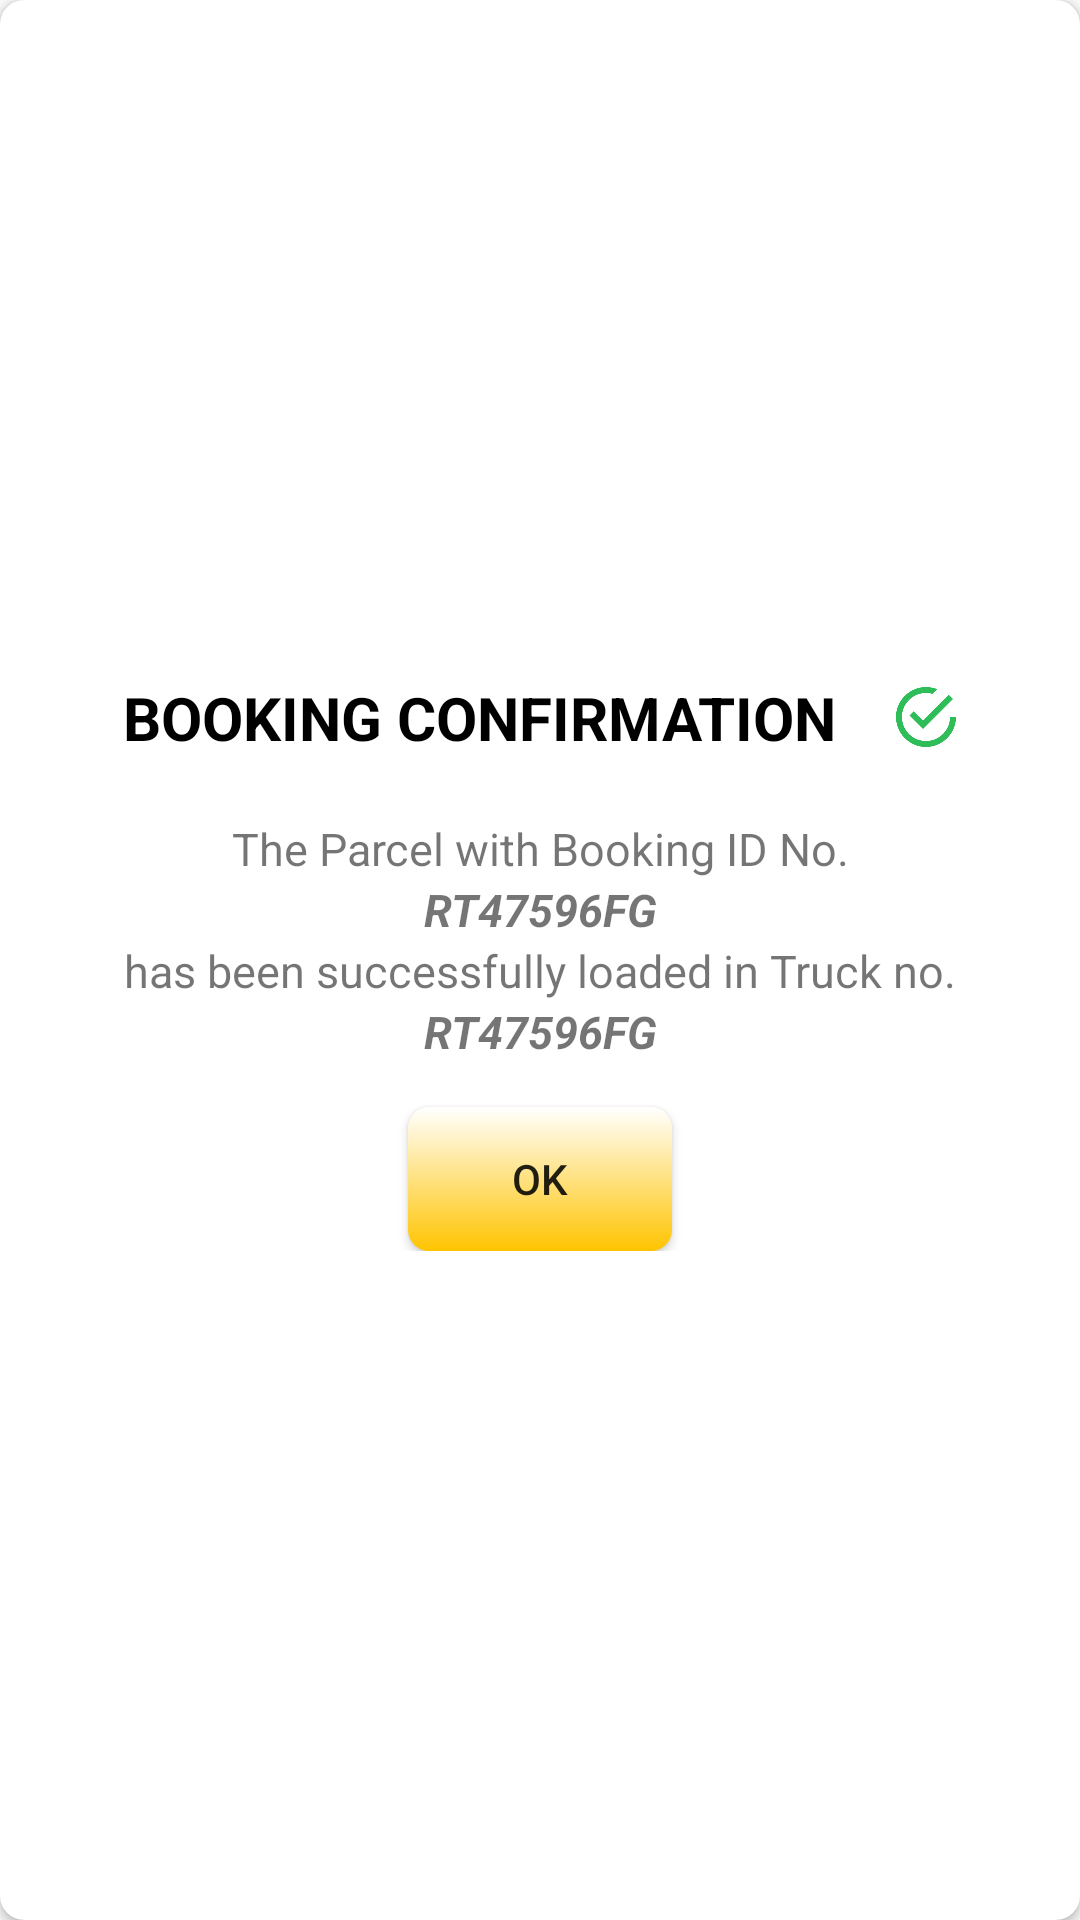

Point at icon controls on the screen. Image size 1080px x 1920px, points as (x,y).
complete: (926,717)
